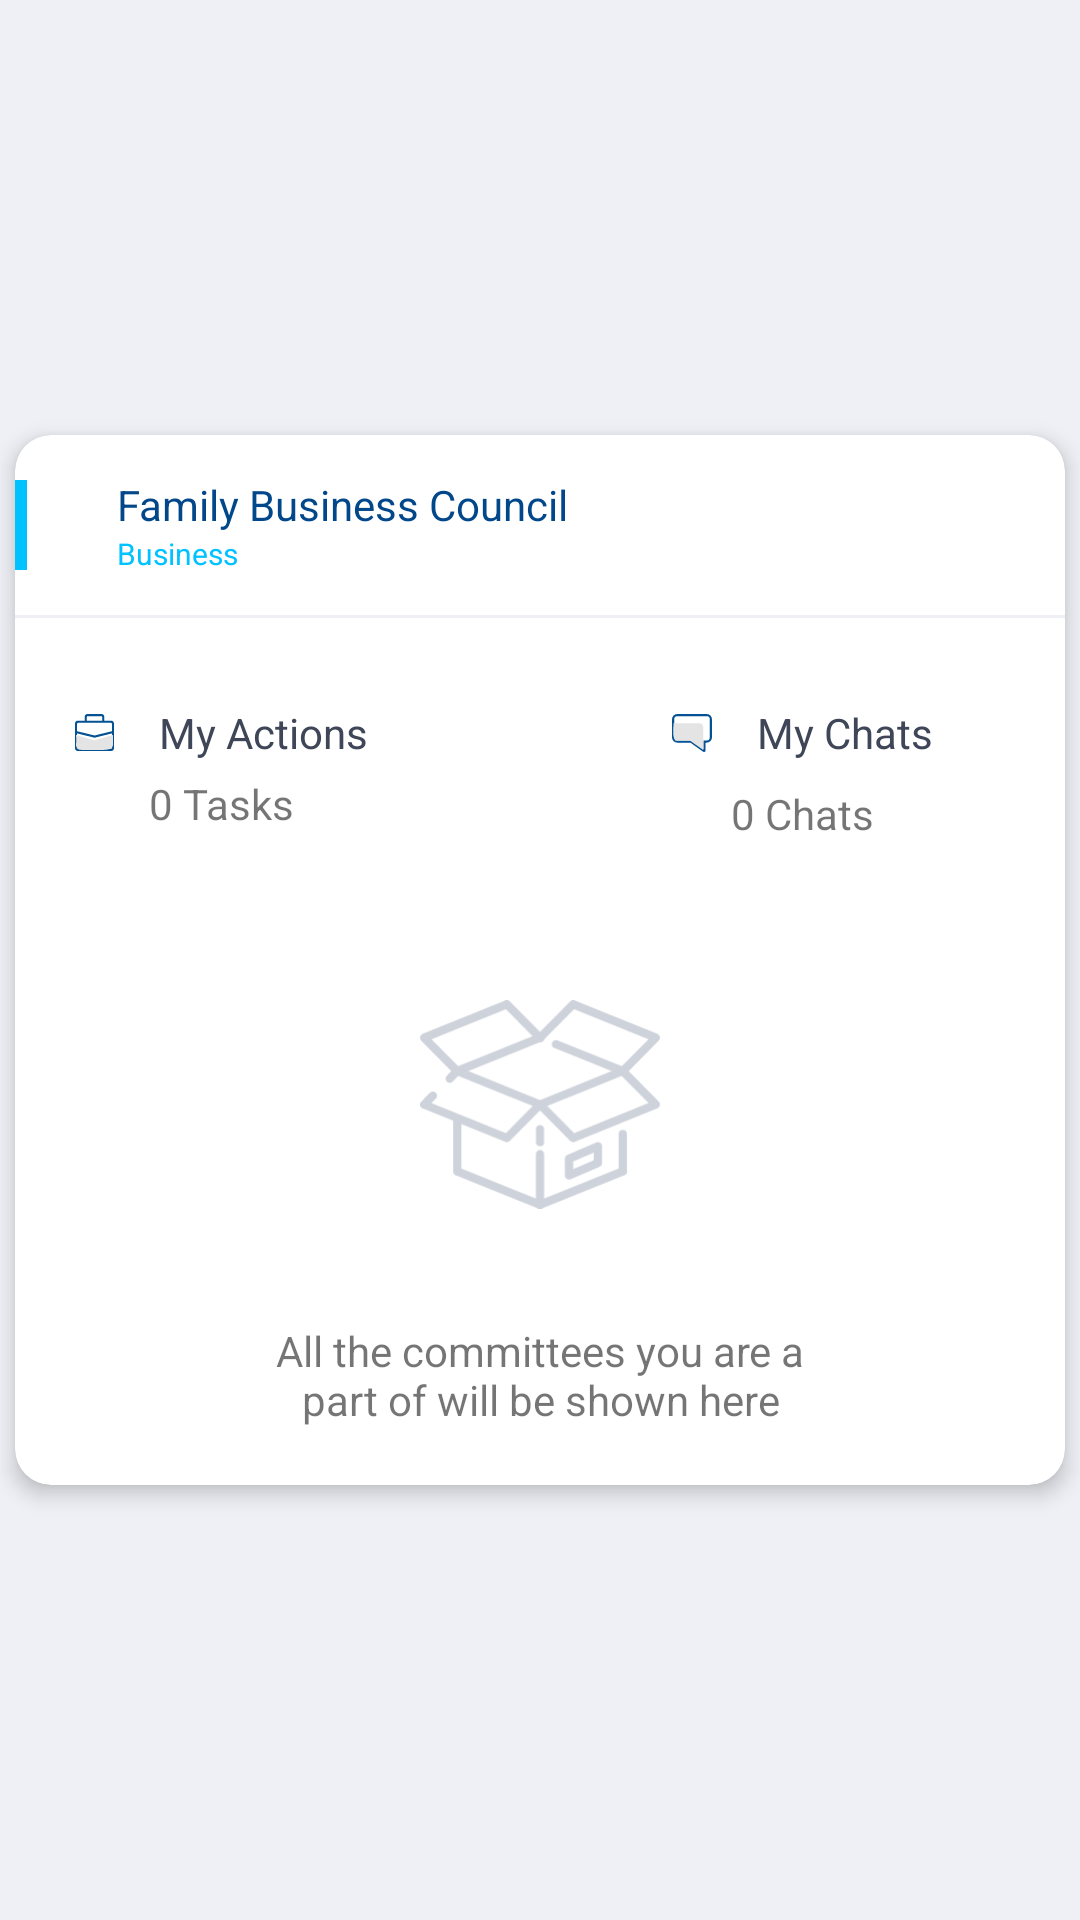

Icon click points for this 1080px x 1920px phone screenshot, format (x,y):
box: (540,1104)
